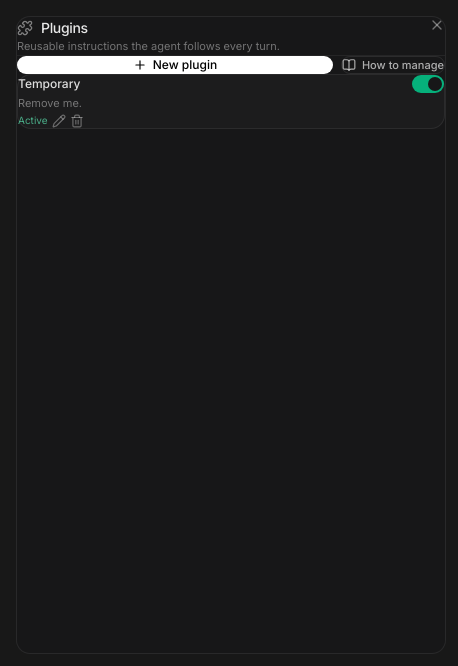
Test: plugins panel › requires a second click to delete
Click the button named "Delete Temporary". click: (77, 120)
box: x1=70 y1=114 x2=84 y2=128
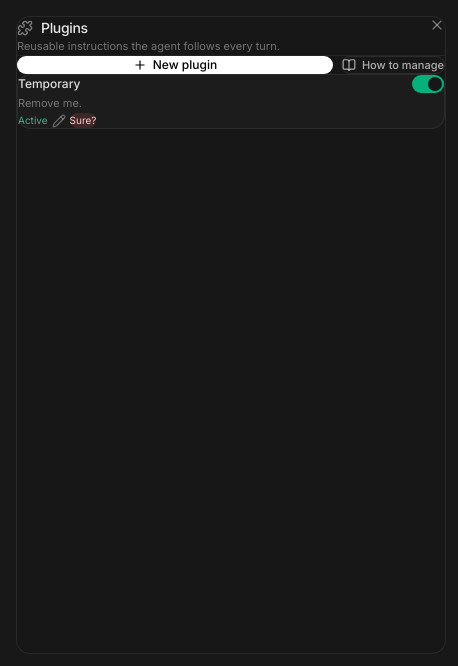
Expected: the button "Sure?" is shown
Click the button "Sure?". click: (83, 120)
box: x1=70 y1=113 x2=96 y2=128
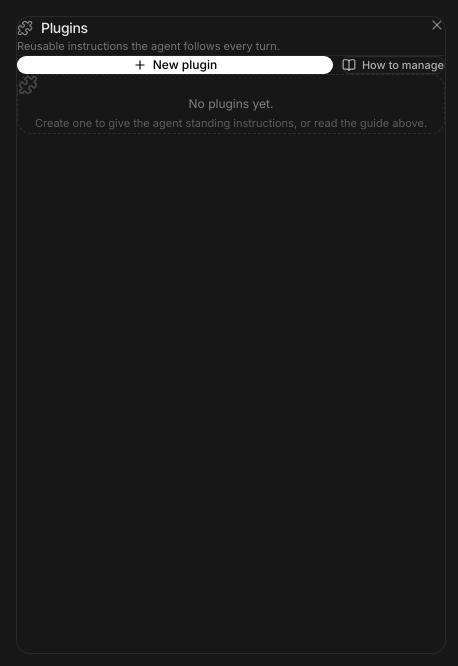
Expected: the text "Temporary" is gone
